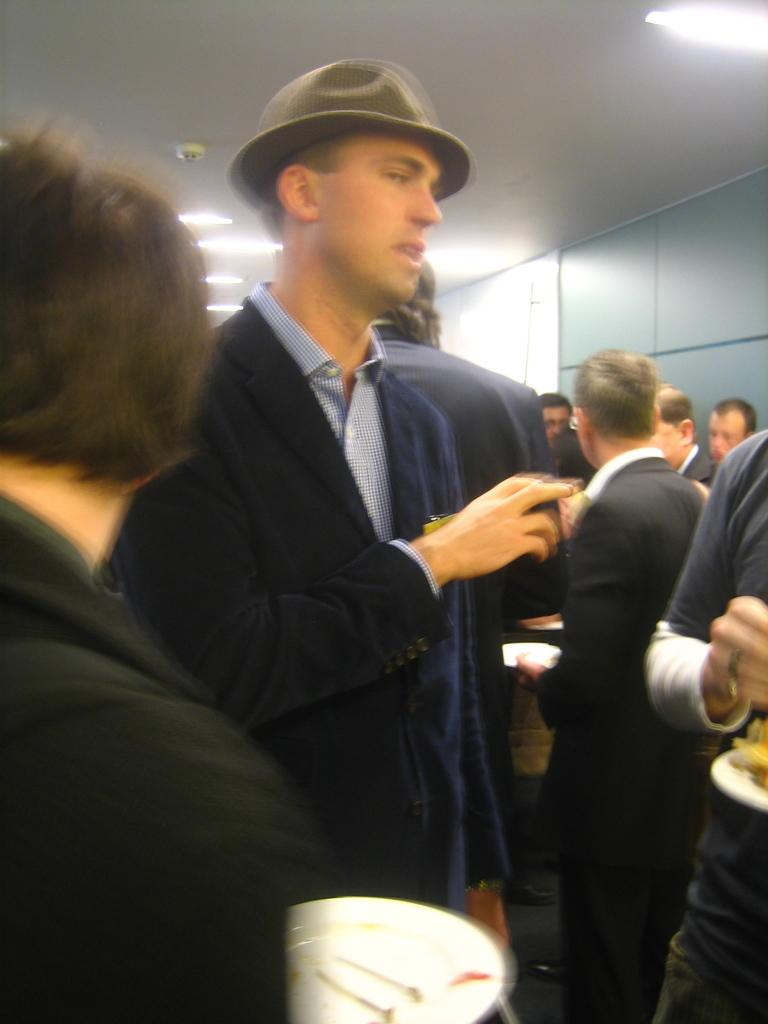Hat: (226, 56, 474, 214)
